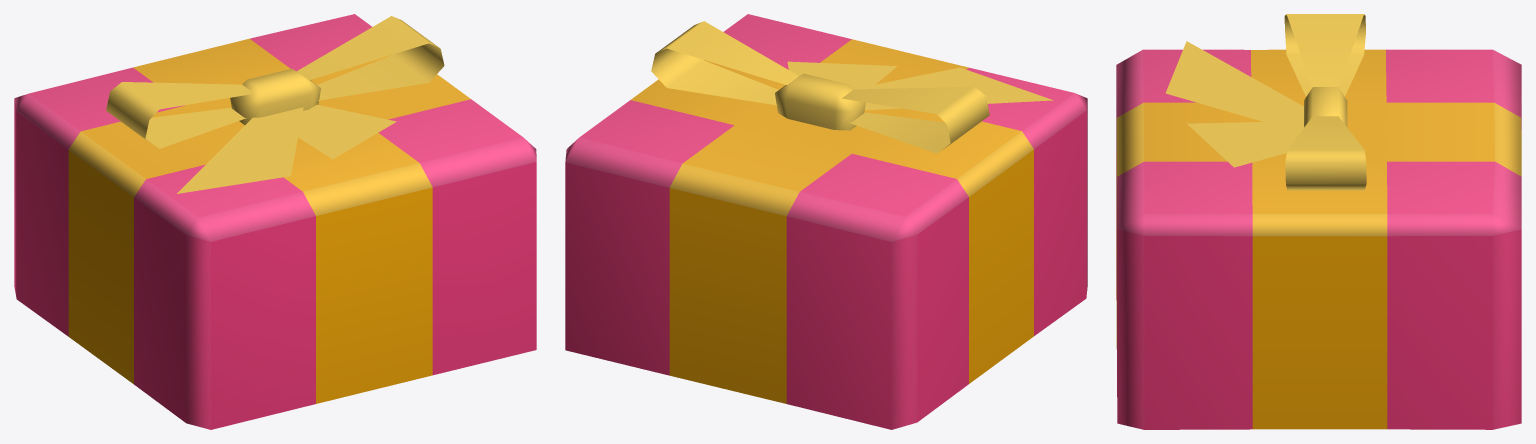
The model's file is Gift_Christmas4.fbx.
3 views of the same model, side by side, from view 1: azimuth 30°, elevation 25°; view 2: azimuth 150°, elevation 25°; view 3: azimuth 270°, elevation 25° (orthographic). The views are drawn at different scales.
Parts seen in each view (by area): view 1: Gift_Christmas4; view 2: Gift_Christmas4; view 3: Gift_Christmas4.
Part boxes in pixels (left/top/right/bottom): Gift_Christmas4: left=14, top=14, right=536, bottom=429; Gift_Christmas4: left=565, top=14, right=1087, bottom=429; Gift_Christmas4: left=1116, top=14, right=1521, bottom=429.
Bounding box in the file's own units: 46.72 × 32.13 × 45.28.
